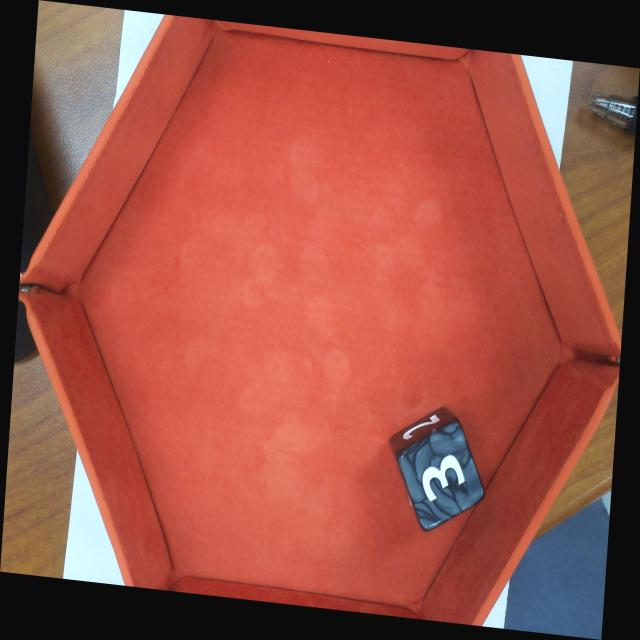dice: (394, 416, 489, 536)
